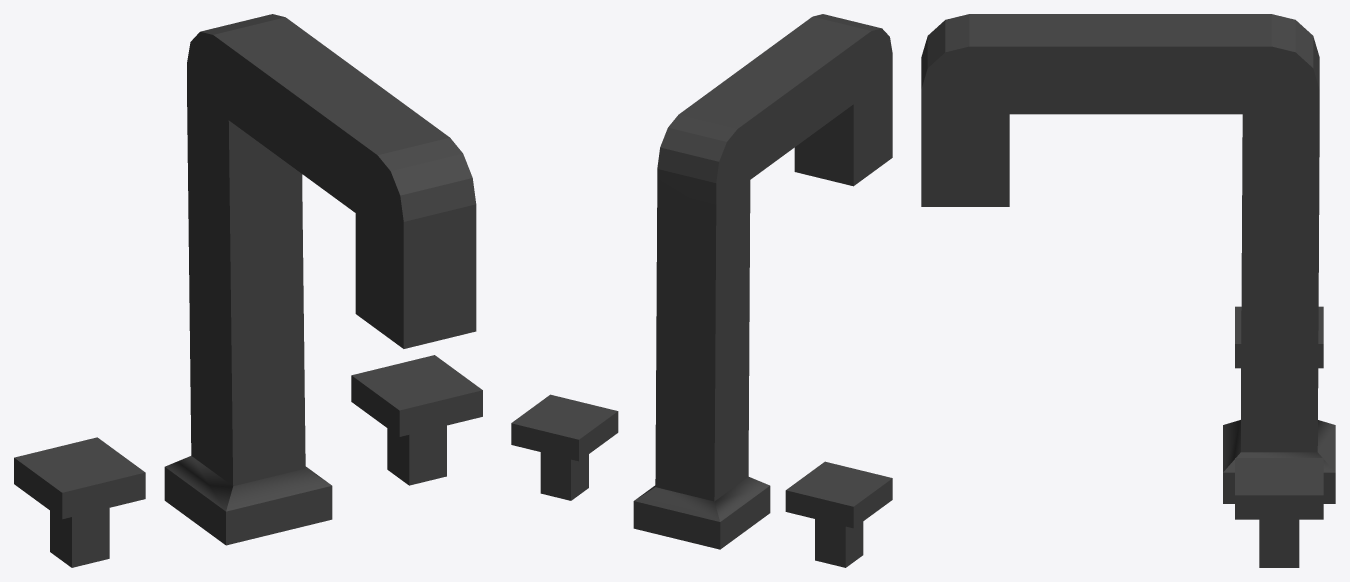
File: House_Water.fbx
3 views of the same model, side by side, from view 1: azimuth 30°, elevation 25°; view 2: azimuth 150°, elevation 25°; view 3: azimuth 270°, elevation 25° (orthographic). The views are drawn at different scales.
Parts seen in each view (by area): view 1: KitchenTabletop2_02; view 2: KitchenTabletop2_02; view 3: KitchenTabletop2_02.
Boxes of the visible parts, left/top/right/bottom form: KitchenTabletop2_02: left=14, top=14, right=482, bottom=567; KitchenTabletop2_02: left=511, top=14, right=892, bottom=567; KitchenTabletop2_02: left=921, top=14, right=1335, bottom=567.
Size of the model in its own units: 14.7 by 16.43 by 13.64.
